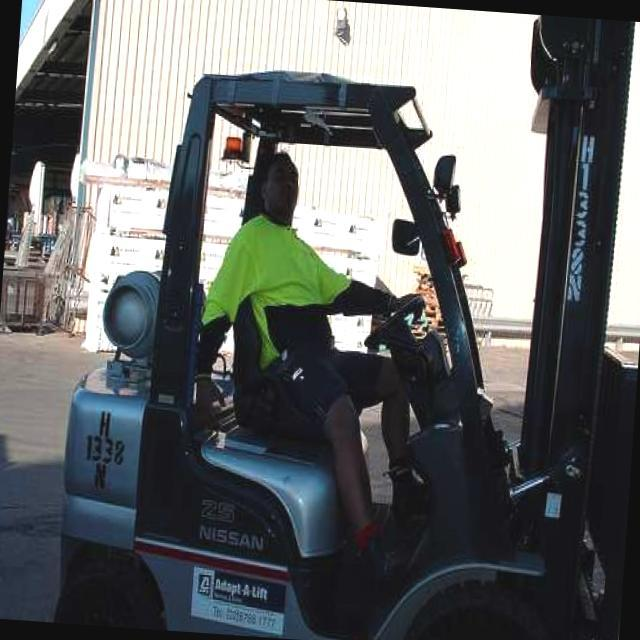driver: (190, 144, 447, 558)
forklift: (51, 0, 640, 640)
